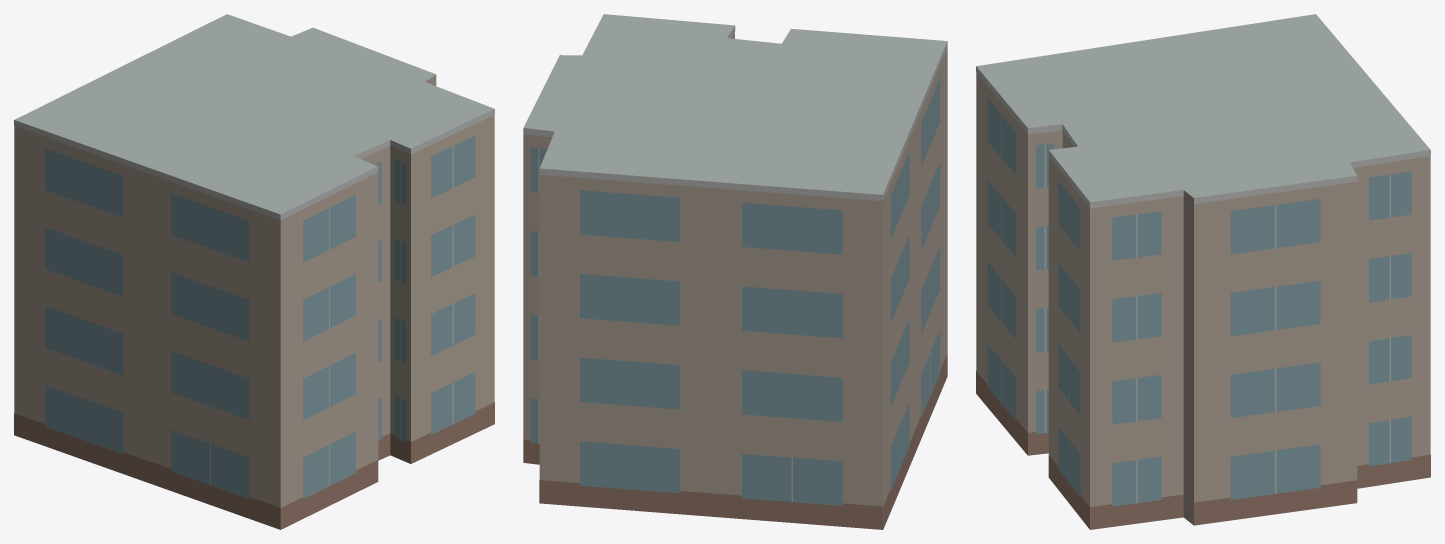
The model's file is survey-upis-32863994.glb.
3 views of the same model, side by side, from view 1: azimuth 30°, elevation 25°; view 2: azimuth 150°, elevation 25°; view 3: azimuth 270°, elevation 25° (orthographic). The views are drawn at different scales.
Parts seen in each view (by area): view 1: survey-upis-32863994.tmp; view 2: survey-upis-32863994.tmp; view 3: survey-upis-32863994.tmp.
Boxes of the visible parts, x1,y1,x2,y2 form: survey-upis-32863994.tmp: (14,14,494,529); survey-upis-32863994.tmp: (523,14,947,529); survey-upis-32863994.tmp: (976,14,1430,529).
Size of the model in its own units: 16.18 by 13.1 by 16.49.
